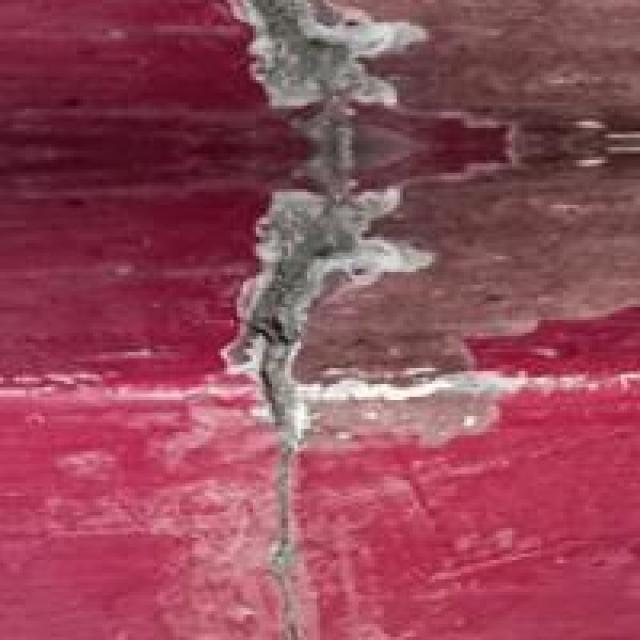crack: (198, 0, 432, 637)
